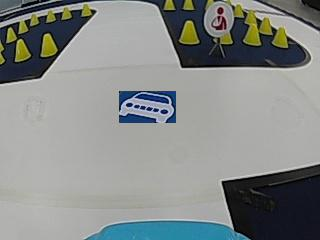cone: (179, 21, 200, 44), (244, 20, 261, 45), (40, 33, 57, 57), (272, 26, 288, 48), (15, 39, 31, 60), (260, 17, 272, 34), (6, 27, 17, 42), (80, 4, 92, 17), (18, 19, 29, 33), (45, 9, 56, 22), (61, 7, 72, 19), (182, 0, 194, 10), (163, 0, 175, 10), (30, 13, 39, 25)
patient: (205, 1, 233, 36)
